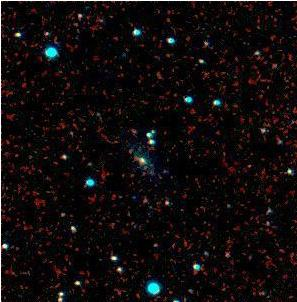star: (113, 142, 143, 172)
